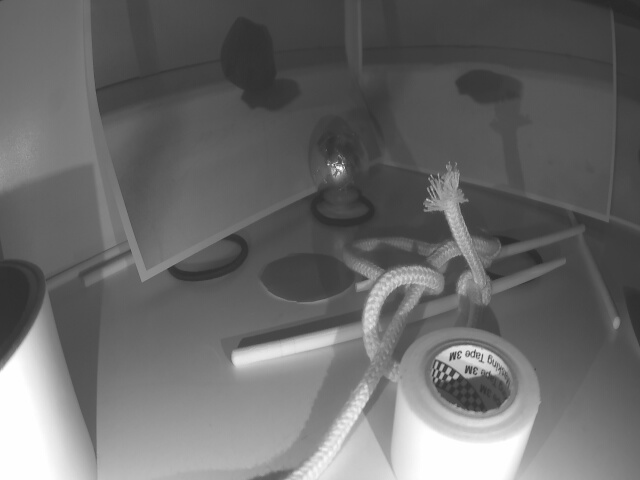Live: (314, 128, 371, 204)
